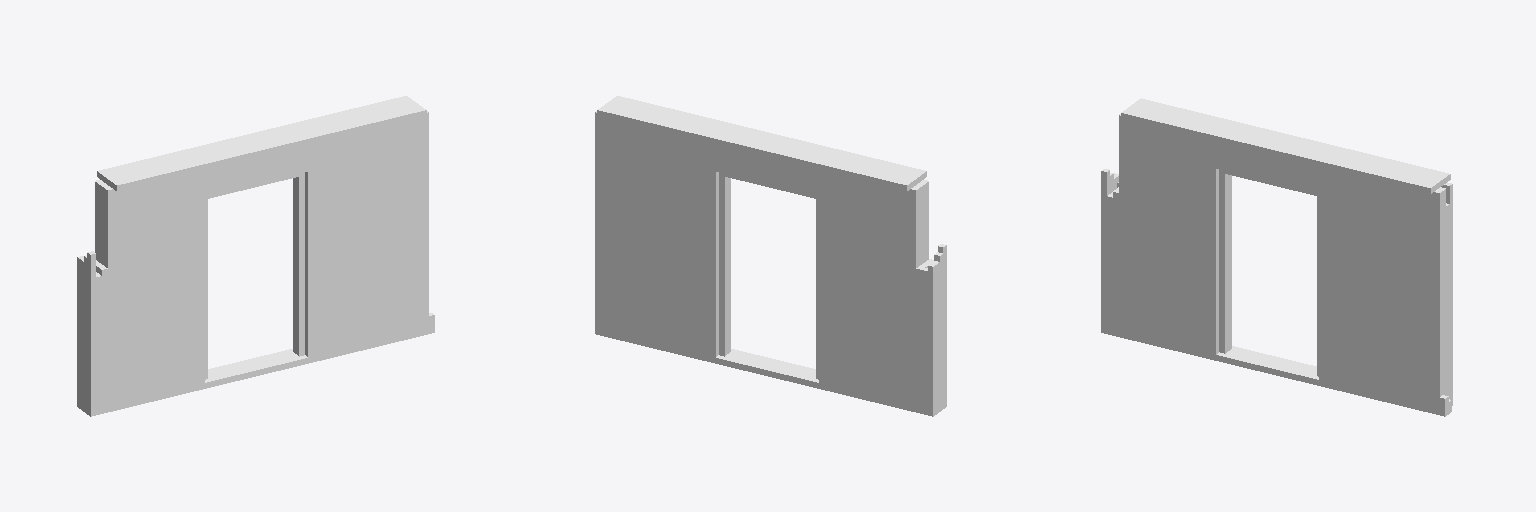
The model's file is modern:wall-left-window.obj.
3 views of the same model, side by side, from view 1: azimuth 30°, elevation 25°; view 2: azimuth 150°, elevation 25°; view 3: azimuth 330°, elevation 25° (orthographic).
Visible parts, largest first — view 1: modern:wall-left-window; view 2: modern:wall-left-window; view 3: modern:wall-left-window.
Boxes of the visible parts, box(x1,y1,x2,y2) form: modern:wall-left-window: box(77, 96, 434, 416); modern:wall-left-window: box(595, 96, 946, 416); modern:wall-left-window: box(1101, 98, 1452, 416).
Bounding box in the file's own units: 60 × 38 × 6.